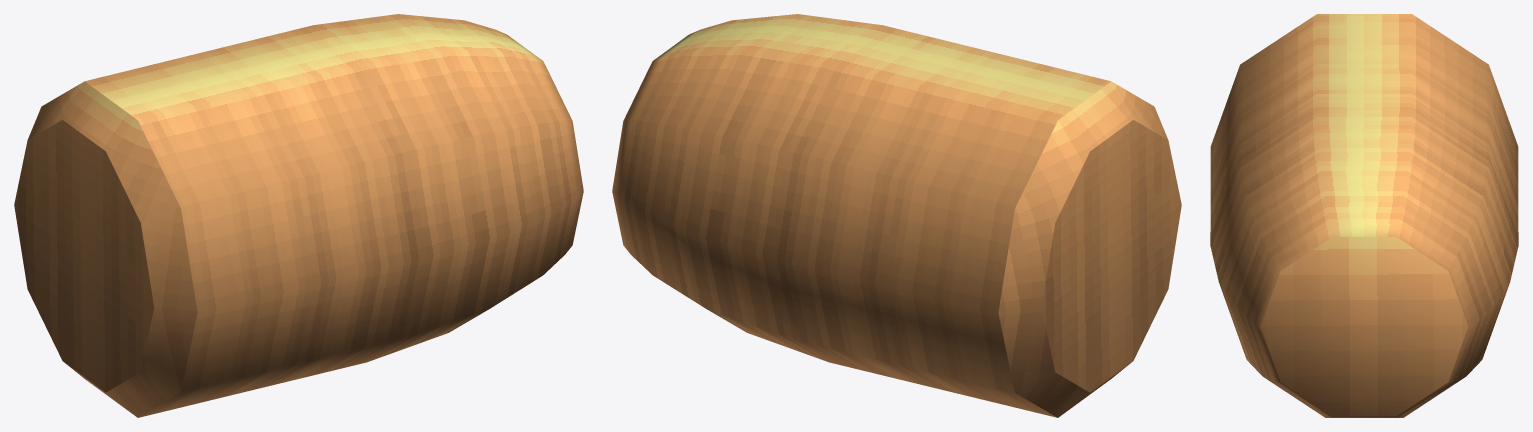
The model's file is ammomaker_BulletHandgunL.fbx.
3 renders of one model, left to right at view 1: azimuth 30°, elevation 25°; view 2: azimuth 150°, elevation 25°; view 3: azimuth 270°, elevation 25°, orthographic. The views are drawn at different scales.
Visible parts, largest first — view 1: ammomaker_BulletHandgunL; view 2: ammomaker_BulletHandgunL; view 3: ammomaker_BulletHandgunL.
Part boxes in pixels (<box>): ammomaker_BulletHandgunL: <box>14,14,583,417</box>; ammomaker_BulletHandgunL: <box>612,14,1181,417</box>; ammomaker_BulletHandgunL: <box>1210,14,1518,417</box>.
Bounding box in the file's own units: 1.87 × 1.21 × 1.27.
